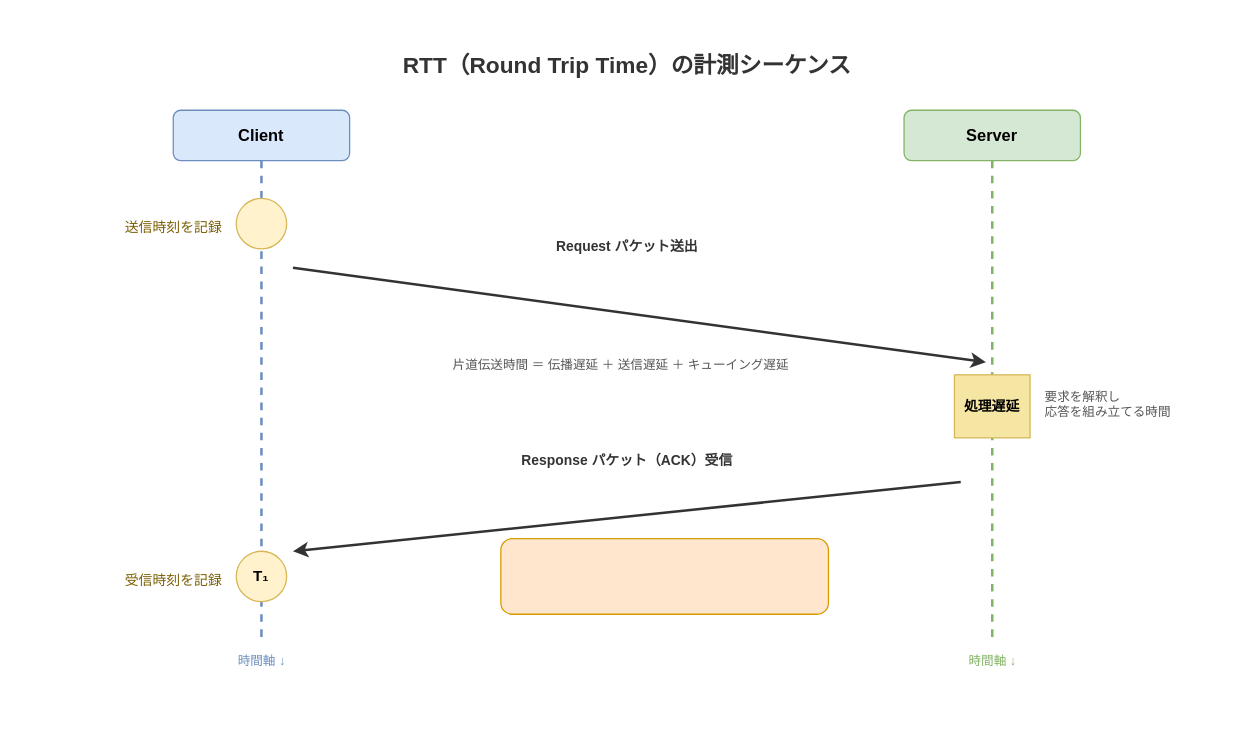
The diagram is 1252 pixels wide and 748 high, and some of its shapes have lost their labels. Each missing label, with the centre of its shape:
RTT ＝ T₁ − T₀: point 664,575
T₀: point 261,223
